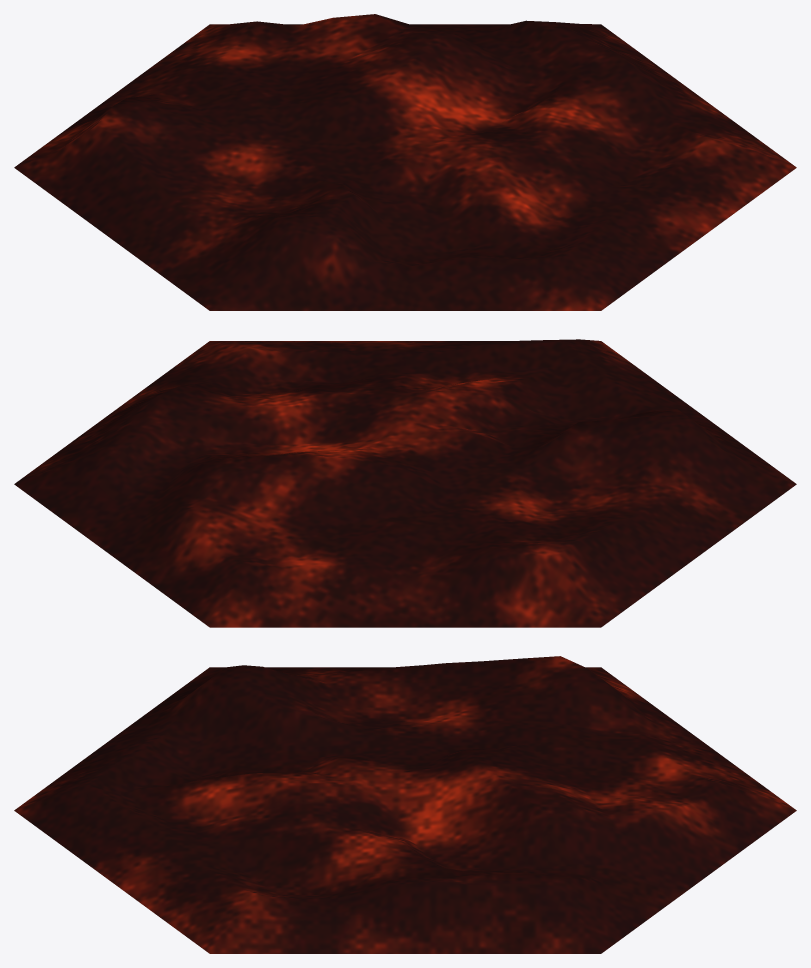
File: HexSoil_s08.fbx
The picture shows the model from 3 angles, top to bottom: view 1: azimuth 30°, elevation 25°; view 2: azimuth 150°, elevation 25°; view 3: azimuth 270°, elevation 25°; orthographic projection.
Parts seen in each view (by area): view 1: HexSoil_s08; view 2: HexSoil_s08; view 3: HexSoil_s08.
Part boxes in pixels (x1,y1,x2,y2): HexSoil_s08: [14, 14, 796, 310]; HexSoil_s08: [14, 339, 796, 627]; HexSoil_s08: [14, 656, 796, 953].
Bounding box in the file's own units: 86.6 × 7.57 × 100.
Materials: 1 (1 with a texture image).
